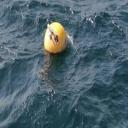yellow: (44, 22, 68, 54)
